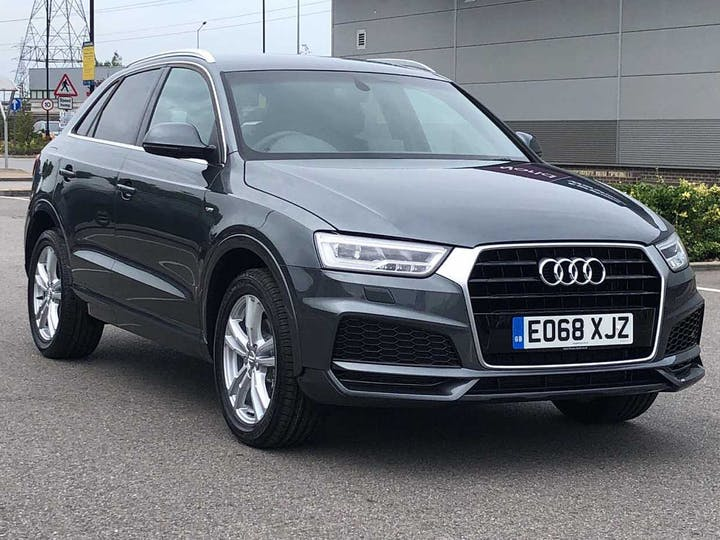audi: (533, 250, 610, 293)
